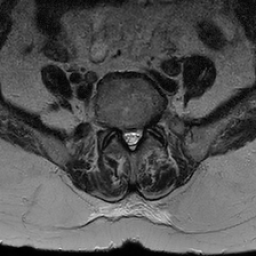CCS_normal: (129, 121, 134, 156)
LFS_severe_stenosis: (141, 116, 149, 140)
LLS_normal: (134, 121, 141, 150)
RFS_severe_stenosis: (113, 118, 121, 141)
RLS_normal: (121, 122, 129, 147)
